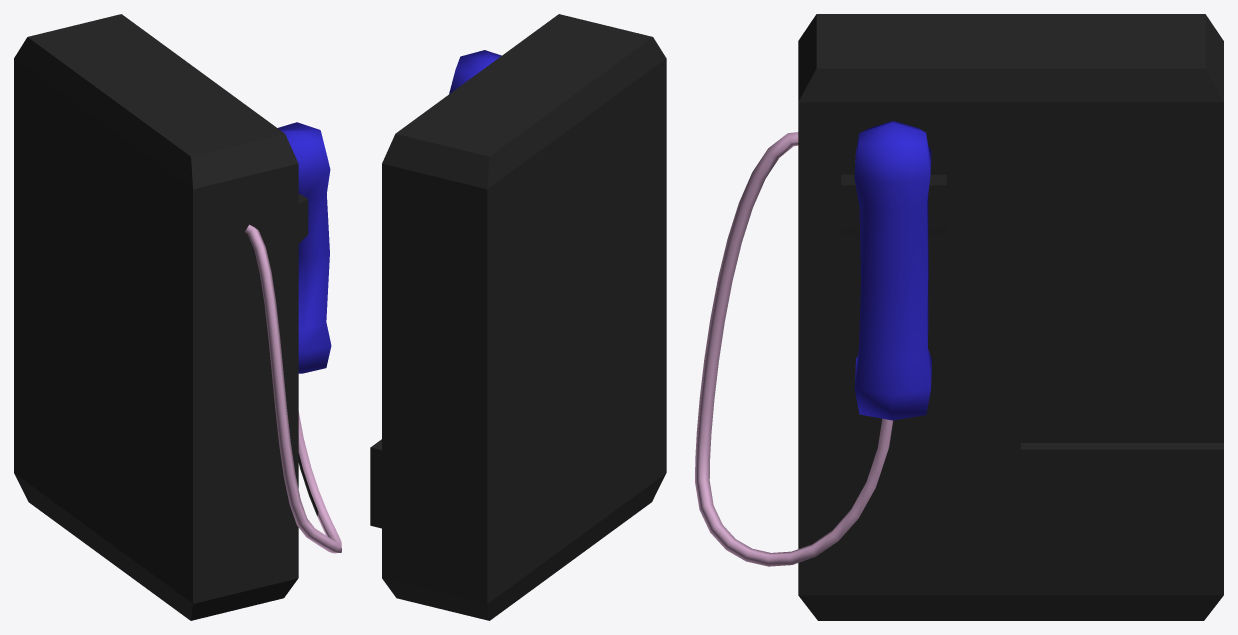
Rendered from Objeto_Telefone.fbx.
3 renders of one model, left to right at view 1: azimuth 30°, elevation 25°; view 2: azimuth 150°, elevation 25°; view 3: azimuth 270°, elevation 25°, orthographic. The views are drawn at different scales.
Parts seen in each view (by area): view 1: caixa do telefone; view 2: caixa do telefone; view 3: caixa do telefone.
Part boxes in pixels (x1,y1,x2,y2): caixa do telefone: (14, 14, 341, 620); caixa do telefone: (370, 14, 666, 620); caixa do telefone: (695, 14, 1223, 620).
Size of the model in its own units: 112 by 286 by 248.
